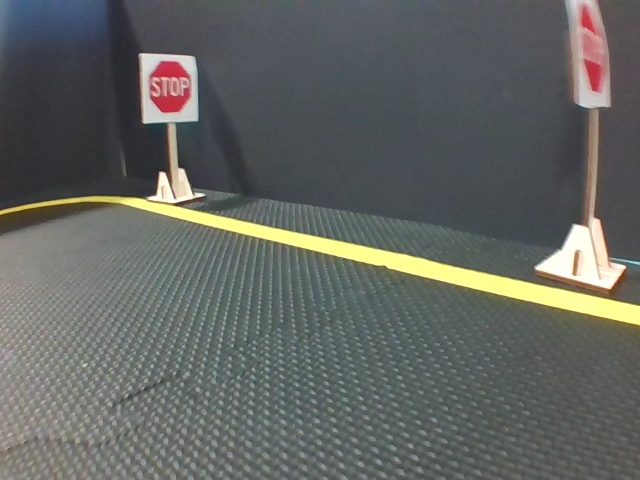stop: (570, 1, 612, 110), (141, 53, 198, 122)
